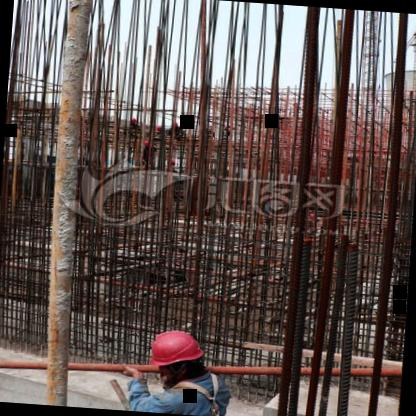helmet: (142, 324, 210, 390)
